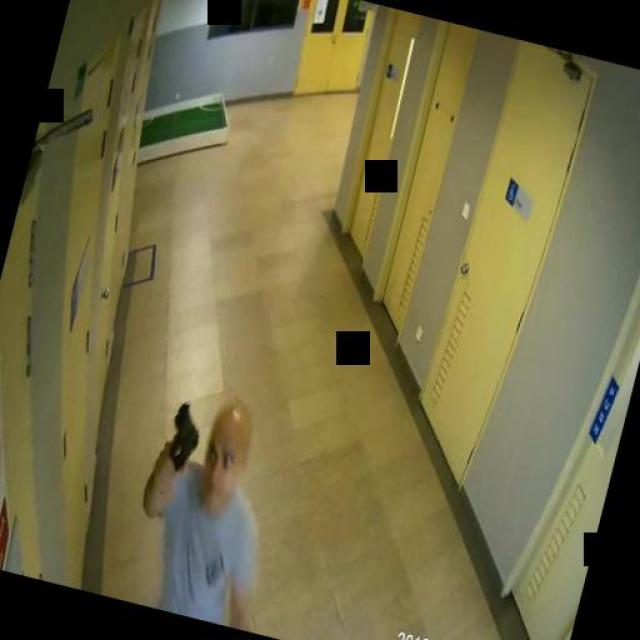gun: (158, 397, 206, 478)
